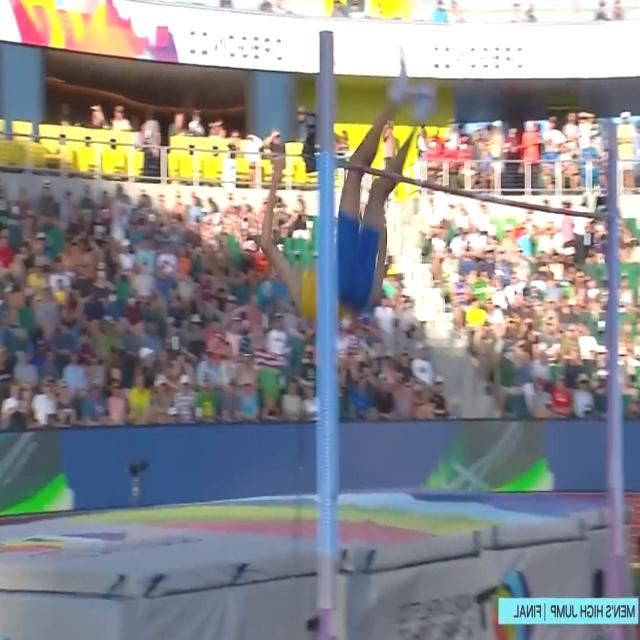land: (259, 42, 436, 326)
